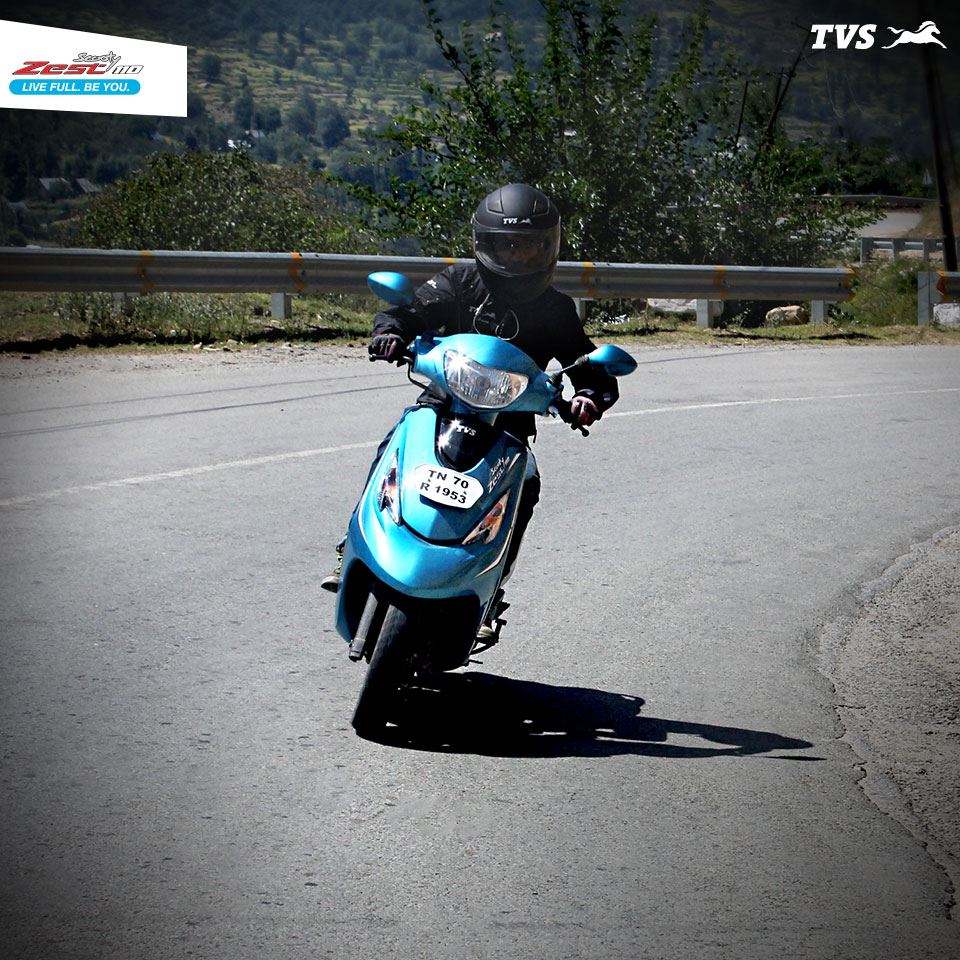helmet: (465, 183, 568, 276)
